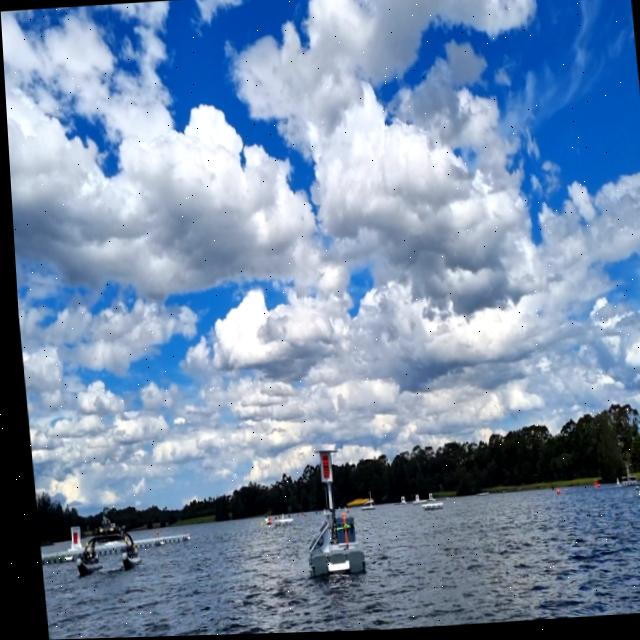led: (314, 454, 325, 482)
